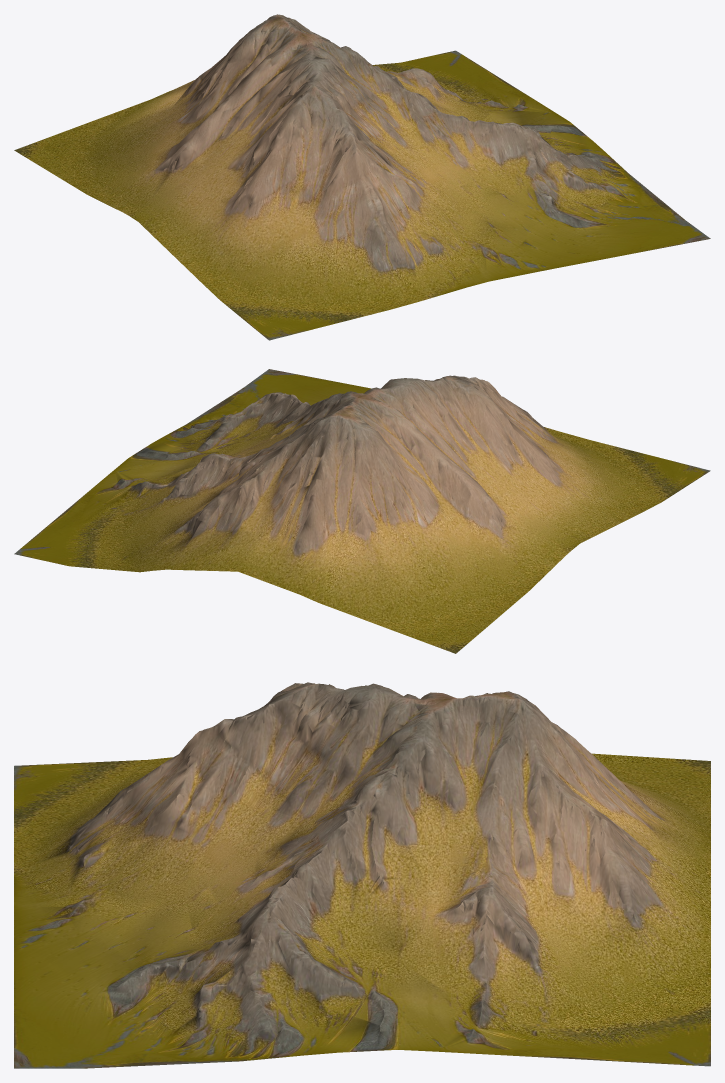
Rendered from flood-hills.glb.
3 renders of one model, top to bottom at view 1: azimuth 30°, elevation 25°; view 2: azimuth 150°, elevation 25°; view 3: azimuth 270°, elevation 25°, orthographic. The views are drawn at different scales.
Visible parts, largest first — view 1: flood-hills; view 2: flood-hills; view 3: flood-hills.
Boxes of the visible parts, left/top/right/bottom form: flood-hills: left=14, top=14, right=710, bottom=340; flood-hills: left=14, top=369, right=710, bottom=653; flood-hills: left=14, top=682, right=710, bottom=1068.
Bounding box in the file's own units: 8000 × 2605 × 8000.
Materials: 1 (1 with a texture image).
